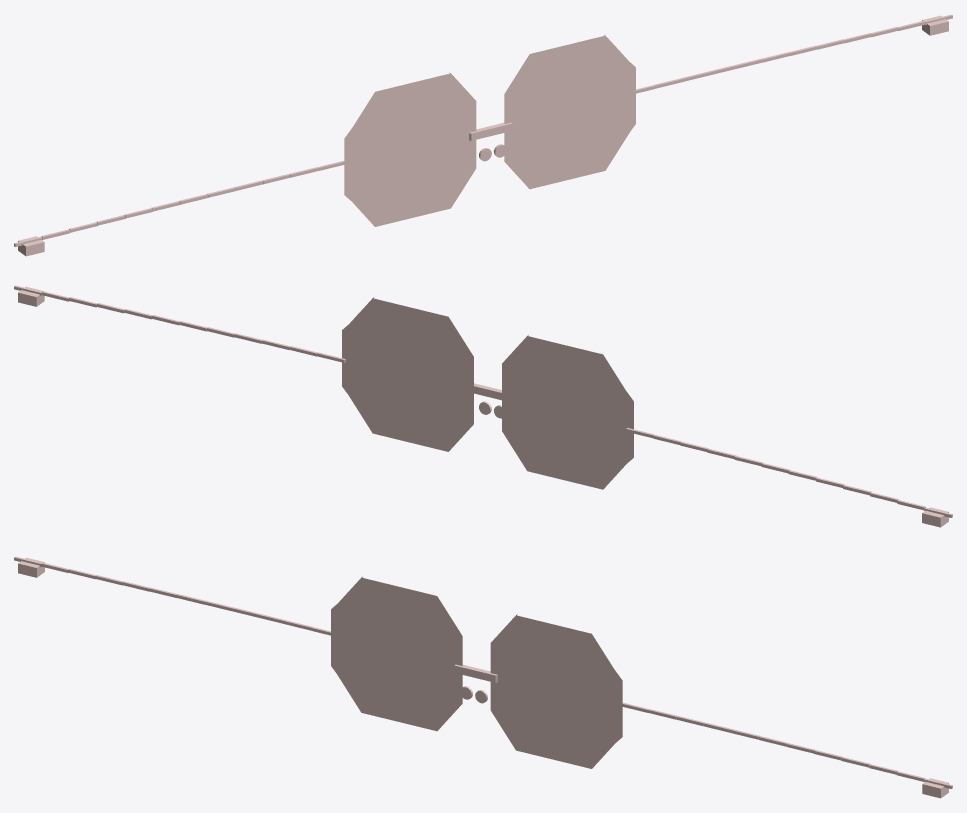
3 views of the same model, one above another, from view 1: azimuth 30°, elevation 25°; view 2: azimuth 150°, elevation 25°; view 3: azimuth 330°, elevation 25° (orthographic).
Visible parts, largest first — view 1: LeftRim, RightRim, LeftTemple, RightTemple, Frame, TempleTips; view 2: RightRim, LeftRim, RightTemple, LeftTemple, Frame, TempleTips; view 3: RightRim, LeftRim, RightTemple, LeftTemple, Frame, TempleTips.
Boxes of the visible parts, x1=… form: LeftRim: x1=349, y1=72, x2=476, y2=226; RightRim: x1=504, y1=34, x2=630, y2=189; LeftTemple: x1=14, y1=160, x2=344, y2=246; RightTemple: x1=636, y1=14, x2=952, y2=93; Frame: x1=344, y1=63, x2=635, y2=199; TempleTips: x1=18, y1=15, x2=948, y2=256; RightRim: x1=347, y1=297, x2=473, y2=451; LeftRim: x1=502, y1=335, x2=628, y2=489; RightTemple: x1=14, y1=285, x2=345, y2=362; LeftTemple: x1=626, y1=428, x2=952, y2=517; Frame: x1=342, y1=325, x2=633, y2=462; TempleTips: x1=18, y1=286, x2=948, y2=527; RightRim: x1=490, y1=614, x2=617, y2=768; LeftRim: x1=336, y1=576, x2=462, y2=731; RightTemple: x1=622, y1=702, x2=952, y2=788; LeftTemple: x1=14, y1=556, x2=330, y2=635; Frame: x1=331, y1=605, x2=622, y2=741; TempleTips: x1=18, y1=557, x2=948, y2=798.
Size of the model in its own units: 400 by 55.2 by 10.5.
